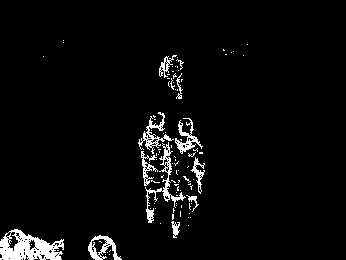person: (164, 113, 204, 240), (138, 110, 172, 225), (157, 53, 186, 101)
